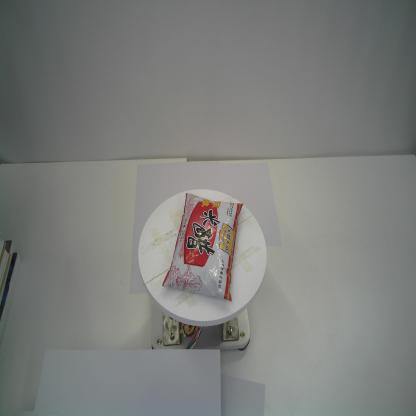Seasoner: (161, 192, 245, 304)
